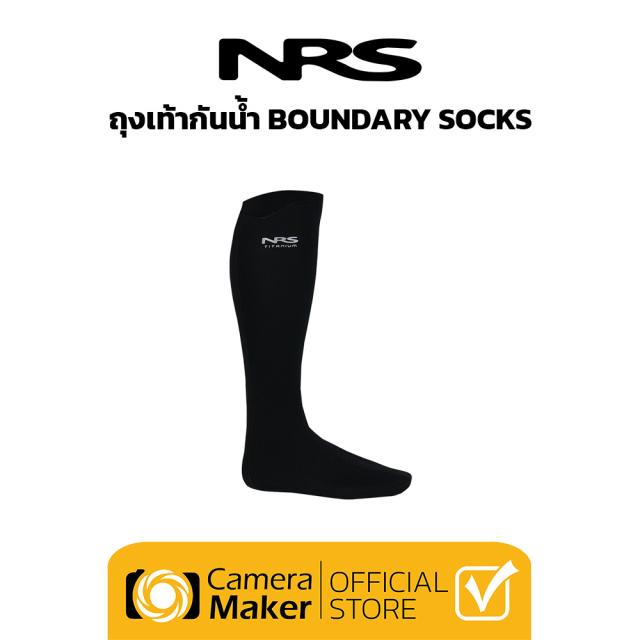sock: (229, 189, 412, 499)
